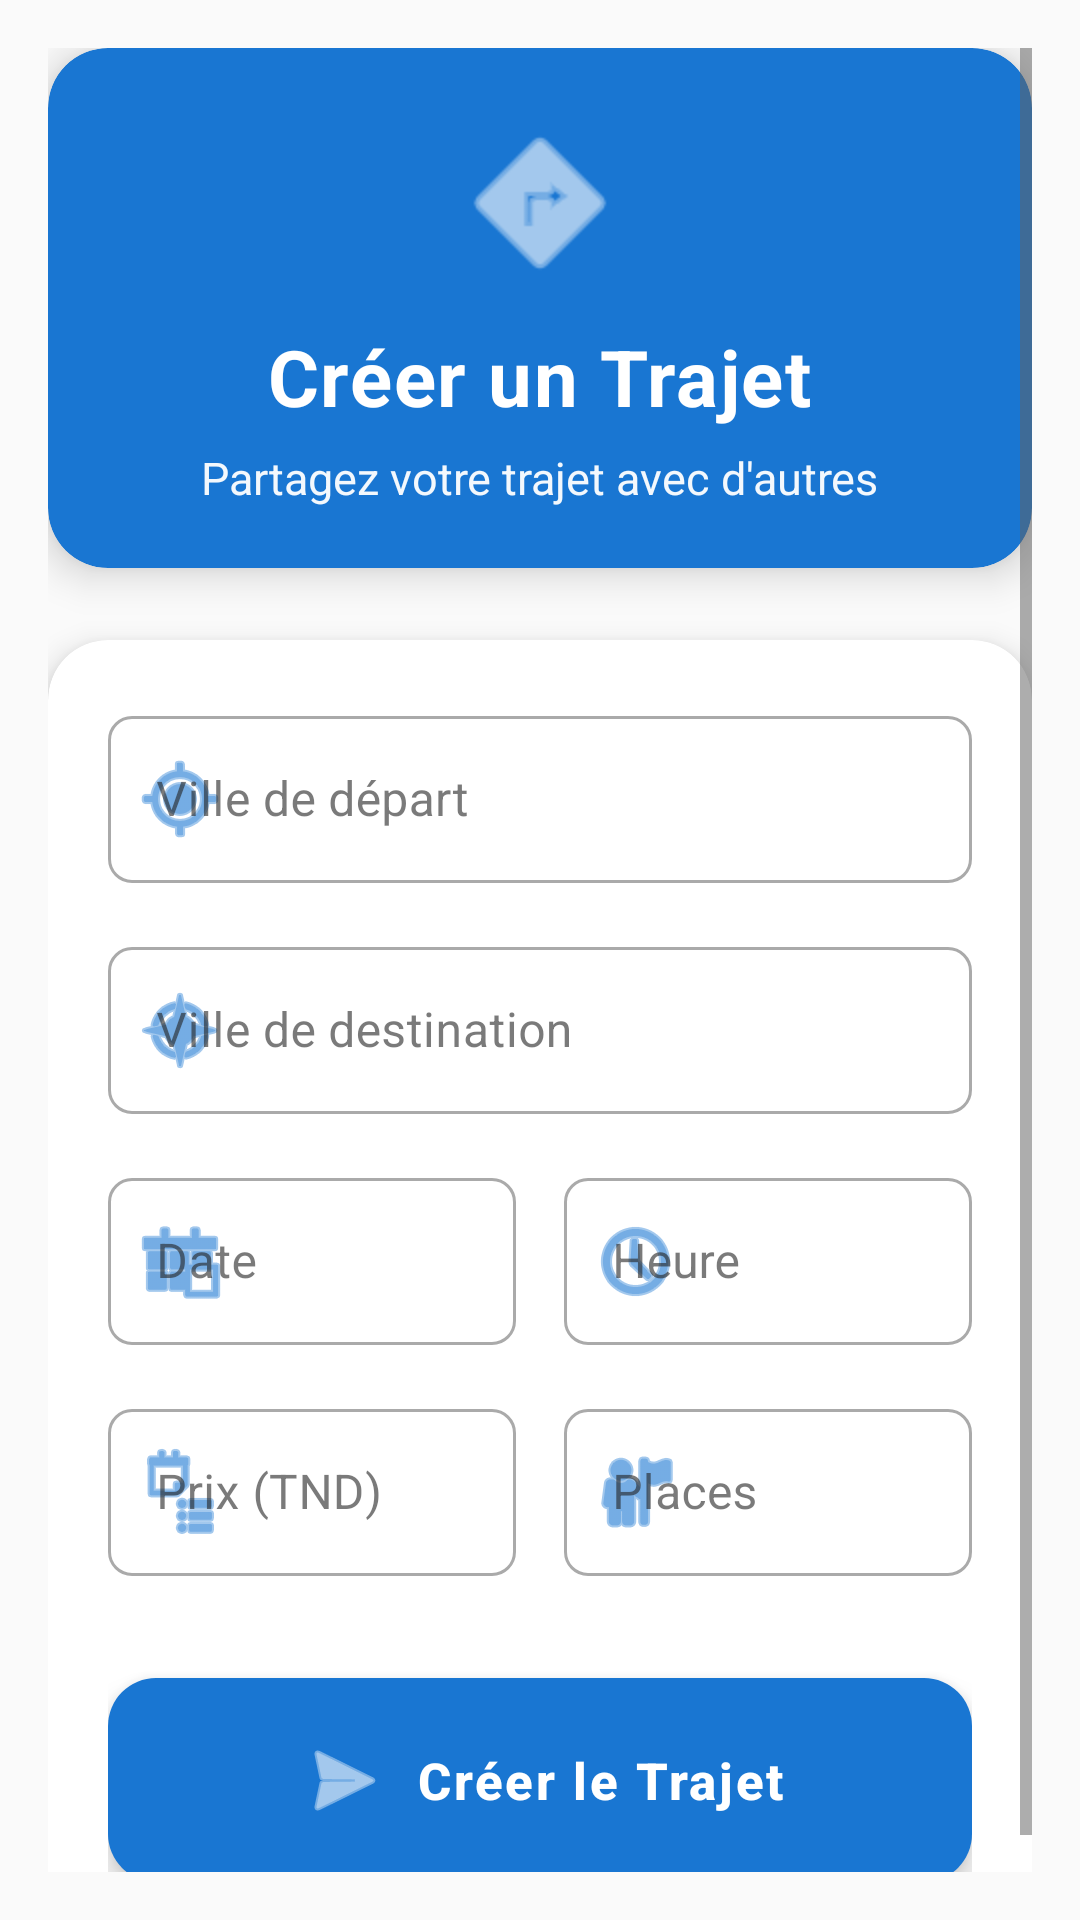

Icon bounding boxes for this 1080px x 1920px phone screenshot, format detection(x1, y1, x2, y2):
directions: detection(474, 137, 606, 269)
